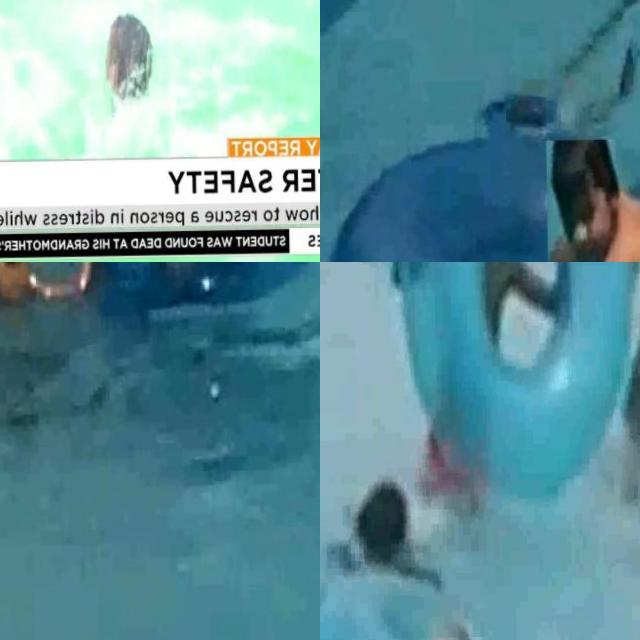drowning: (454, 0, 640, 136), (320, 436, 458, 613), (88, 0, 169, 131), (33, 591, 165, 640)
swimming: (543, 137, 640, 262), (0, 262, 133, 336)
